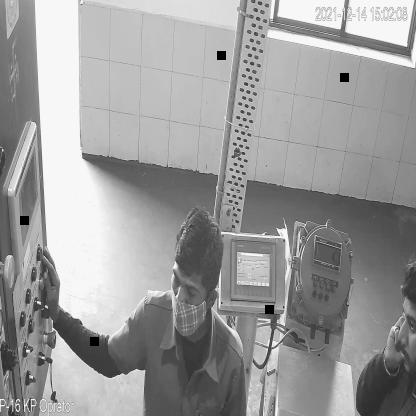no_goggles: (169, 272, 208, 300)
